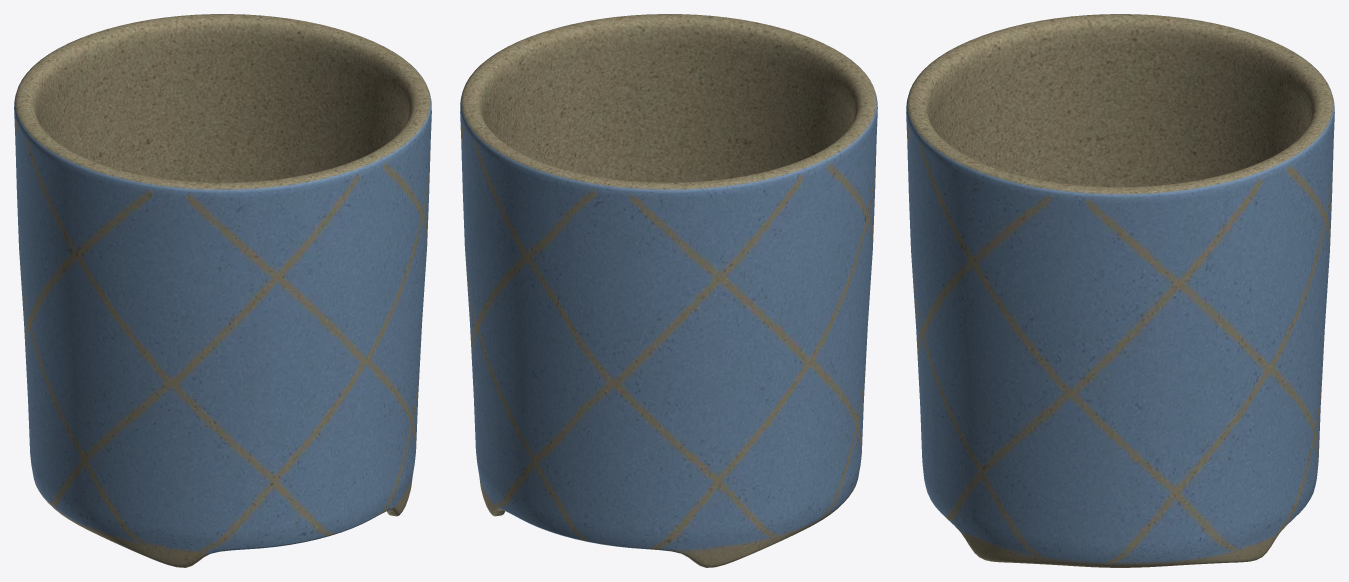
Rendered from abo-B0842LDVT7.glb.
The picture shows the model from 3 angles, left to right: view 1: azimuth 30°, elevation 25°; view 2: azimuth 150°, elevation 25°; view 3: azimuth 270°, elevation 25°; orthographic projection. The views are drawn at different scales.
Bounding box in the file's own units: 0.227 × 0.235 × 0.227.
Materials: 1 (1 with a texture image).
